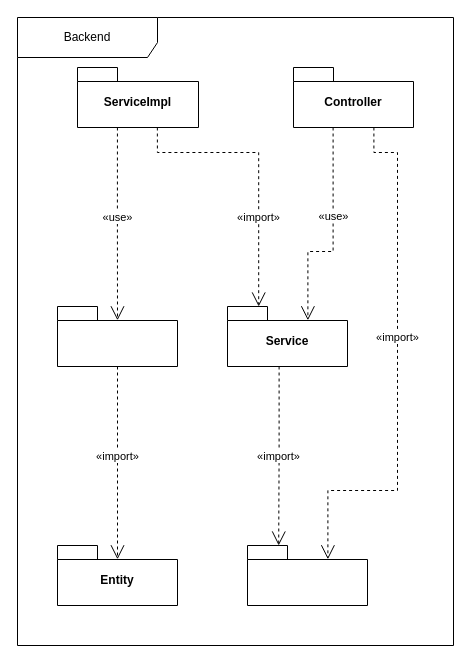
This 471x663 diagram has some shape labels left out. The centre of each missing label's shape, as x and y in pixels:
"DTO" belongs at pixel 307 575.
"Repository" belongs at pixel 117 336.
